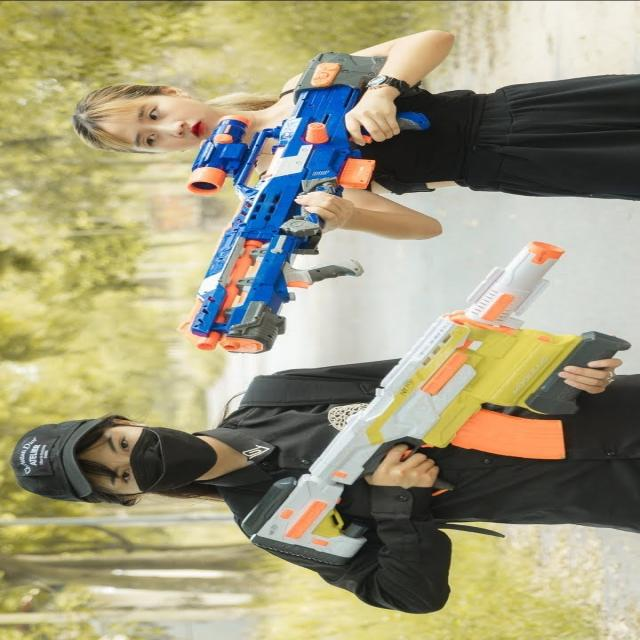Nerf gun: (238, 237, 632, 571), (172, 47, 438, 360)
